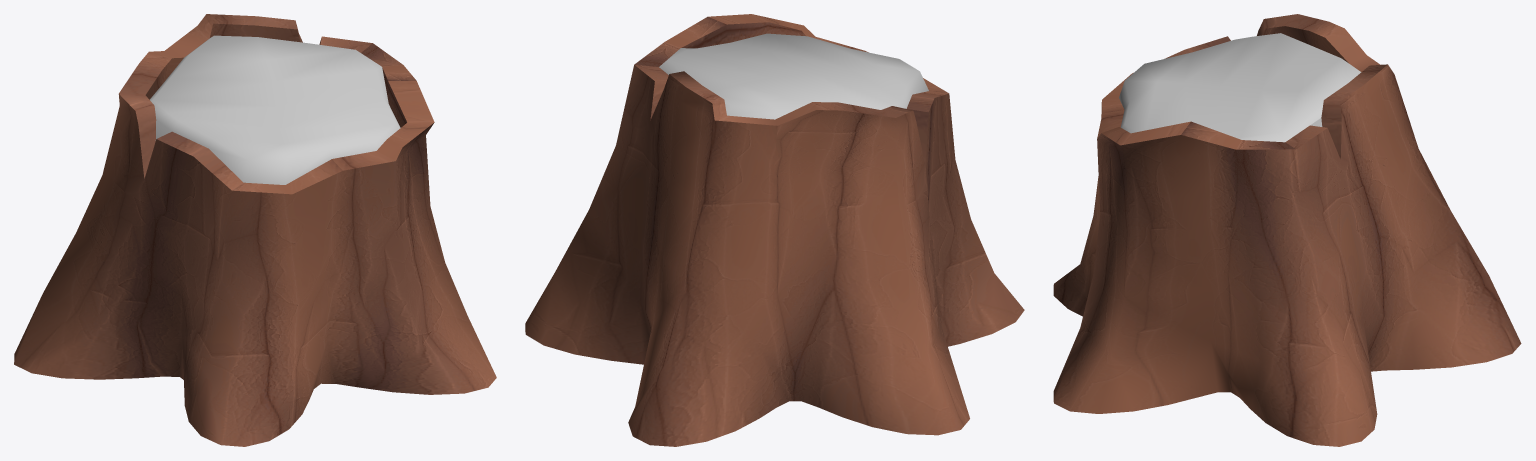
Rendered from Tree_Bark_1.gltf.
3 views of the same model, side by side, from view 1: azimuth 30°, elevation 25°; view 2: azimuth 150°, elevation 25°; view 3: azimuth 270°, elevation 25° (orthographic). The views are drawn at different scales.
Visible parts, largest first — view 1: Tree_Bark_1; view 2: Tree_Bark_1; view 3: Tree_Bark_1.
Boxes of the visible parts, box(x1,y1,x2,y2) form: Tree_Bark_1: box(14, 14, 496, 446); Tree_Bark_1: box(525, 14, 1024, 446); Tree_Bark_1: box(1053, 14, 1521, 446).
Size of what is drawn, in the model's own units: 1.42 by 0.9008 by 1.35.
